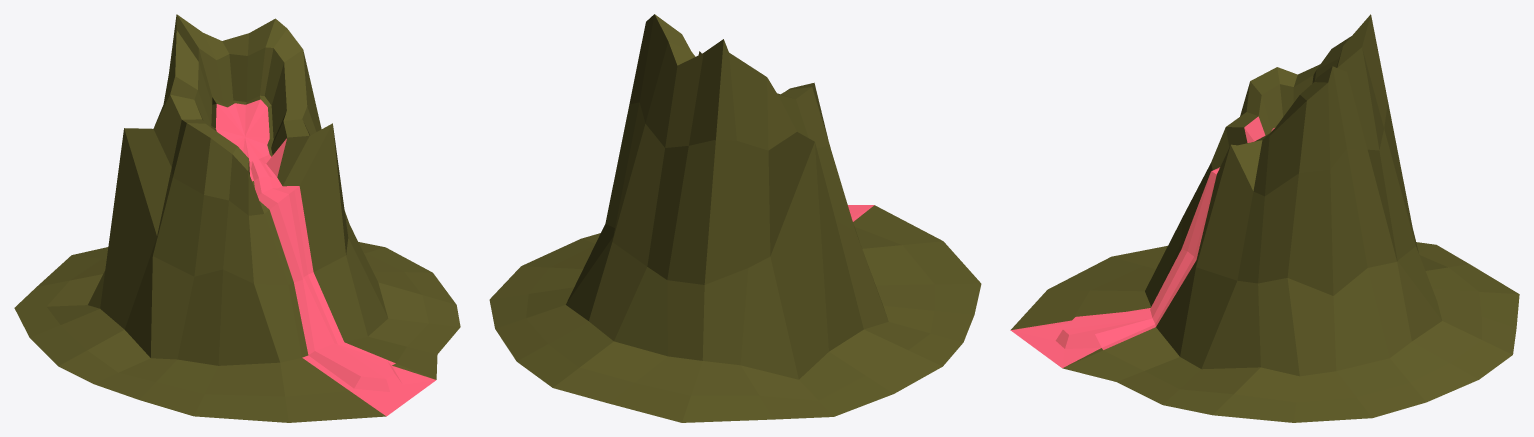
The model's file is volcano.fbx.
The picture shows the model from 3 angles, left to right: view 1: azimuth 30°, elevation 25°; view 2: azimuth 150°, elevation 25°; view 3: azimuth 270°, elevation 25°; orthographic projection. The views are drawn at different scales.
Visible parts, largest first — view 1: 1230 Volcano; view 2: 1230 Volcano; view 3: 1230 Volcano.
Boxes of the visible parts, <box> form: 1230 Volcano: <box>14,14,460,422</box>; 1230 Volcano: <box>489,14,981,422</box>; 1230 Volcano: <box>1010,14,1519,422</box>.
Bounding box in the file's own units: 8.83 × 6.38 × 9.9.
